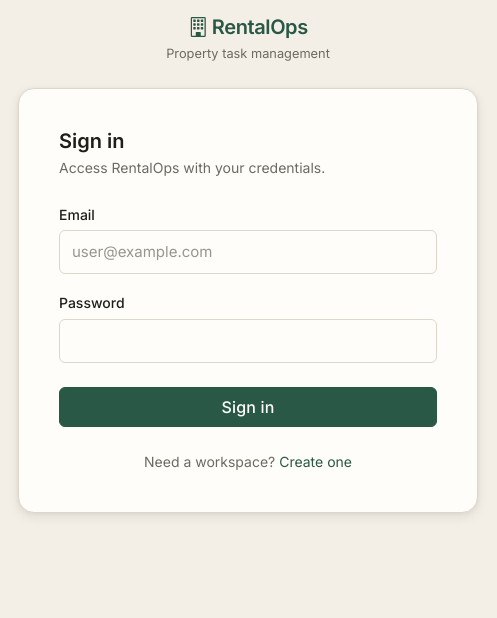
Test: LoginPage › shows 403 disabled account feedback
The width and height of the screenshot is (497, 618).
Type "admin@test.local" into the field labelled "Email" at (248, 252), box [59,230,437,274]
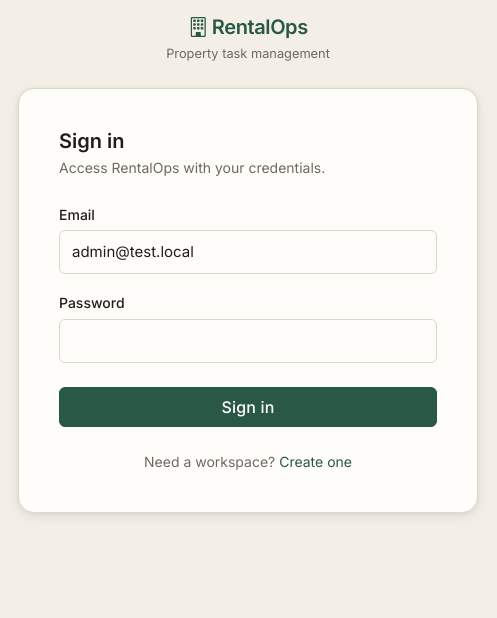
Type "secret123" into the password field labelled "Password" at (248, 341), box [59,319,437,363]
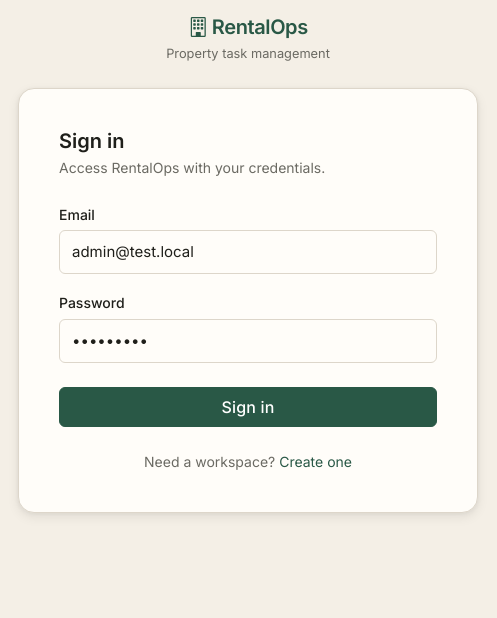
Click the button "Sign in" at (248, 407), box [59,387,437,427]
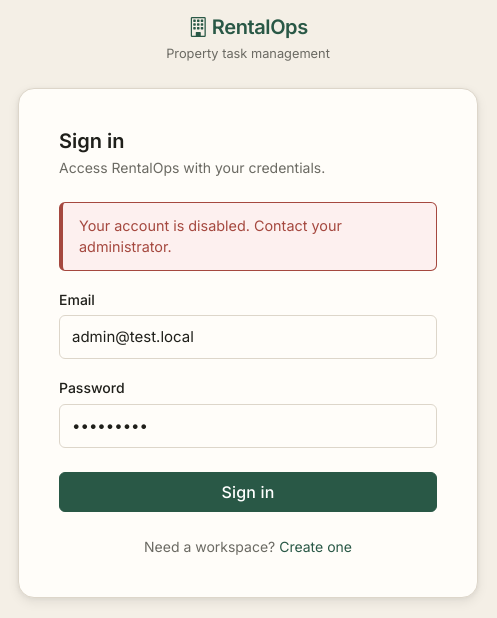
Now the text "Your account is disabled. Contact your administrator." is shown, box [59,202,437,271]
